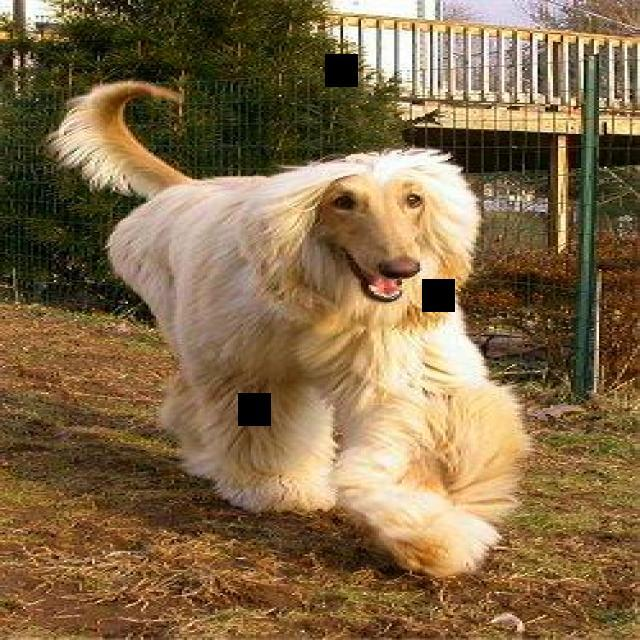adult_dog: (45, 74, 528, 583)
